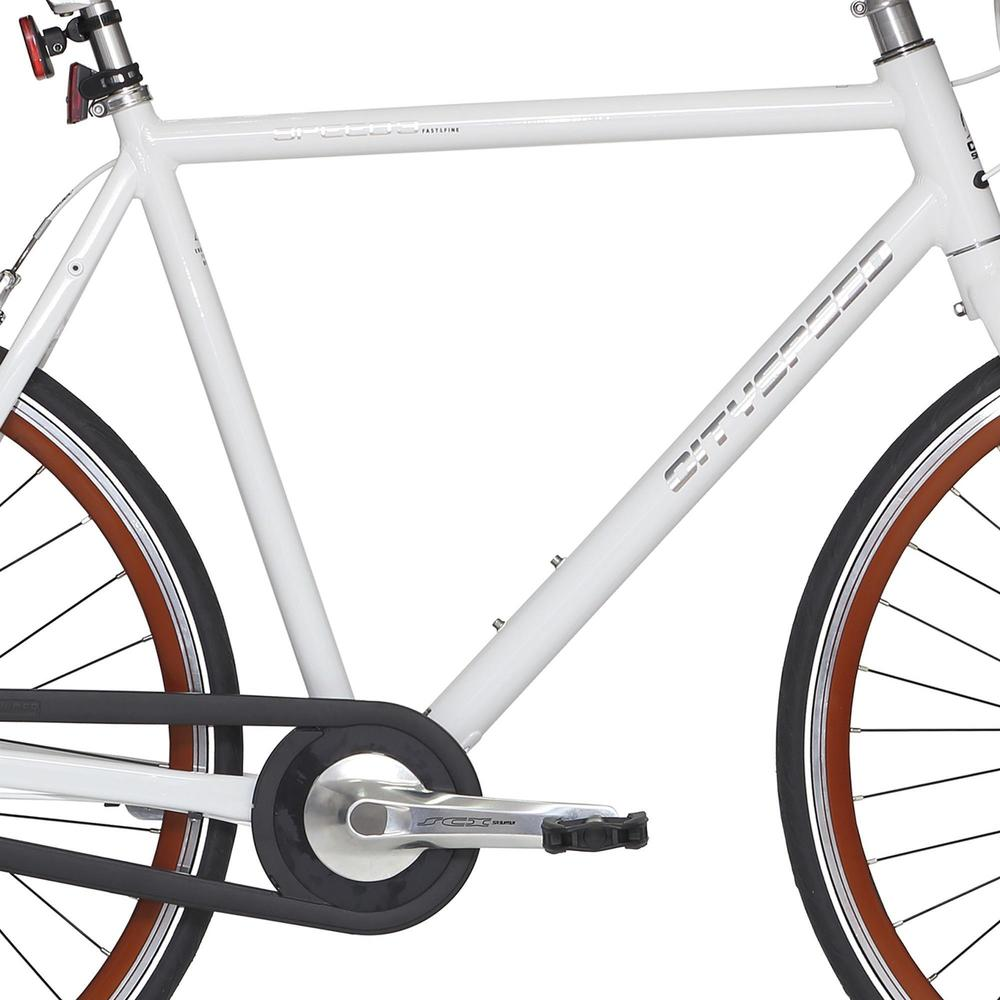UrbanBike: (1, 1, 1000, 1000)
